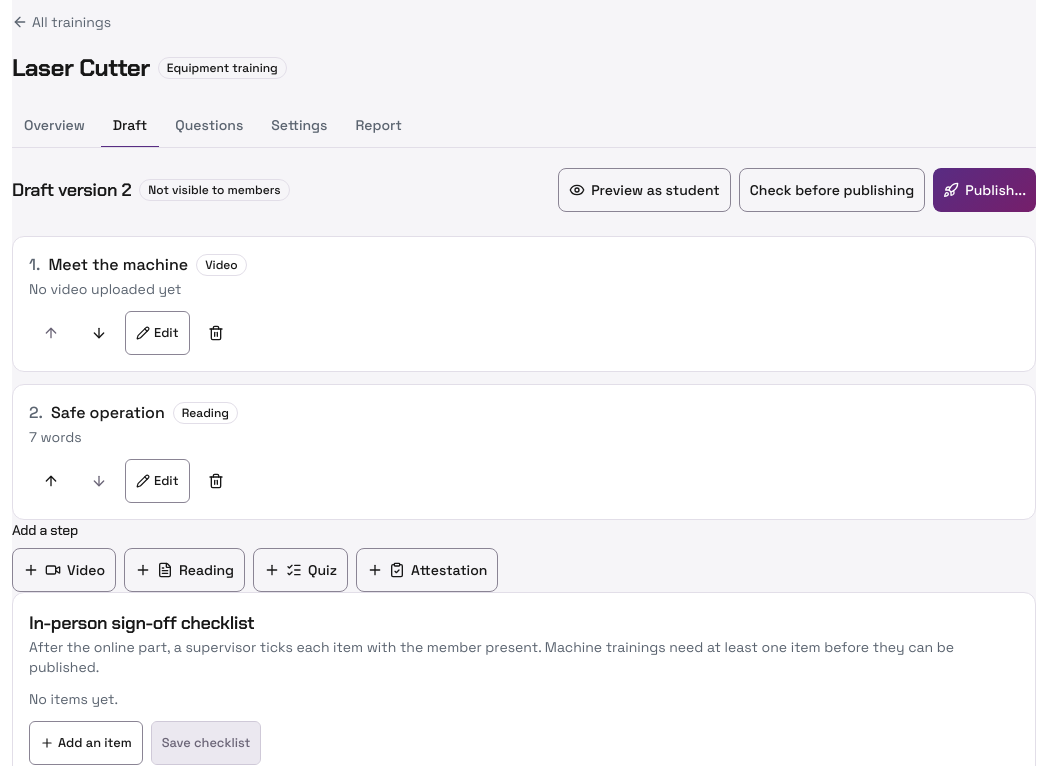
Test case: DraftEditor publish check › says when the draft is ready
Expected: the heading "Laser Cutter" is shown, [12,52,150,84]
Expected: the heading "Draft version 2" is shown, [12,176,131,204]
Click the button "Check before publishing" at (832, 190), box [739,168,925,212]
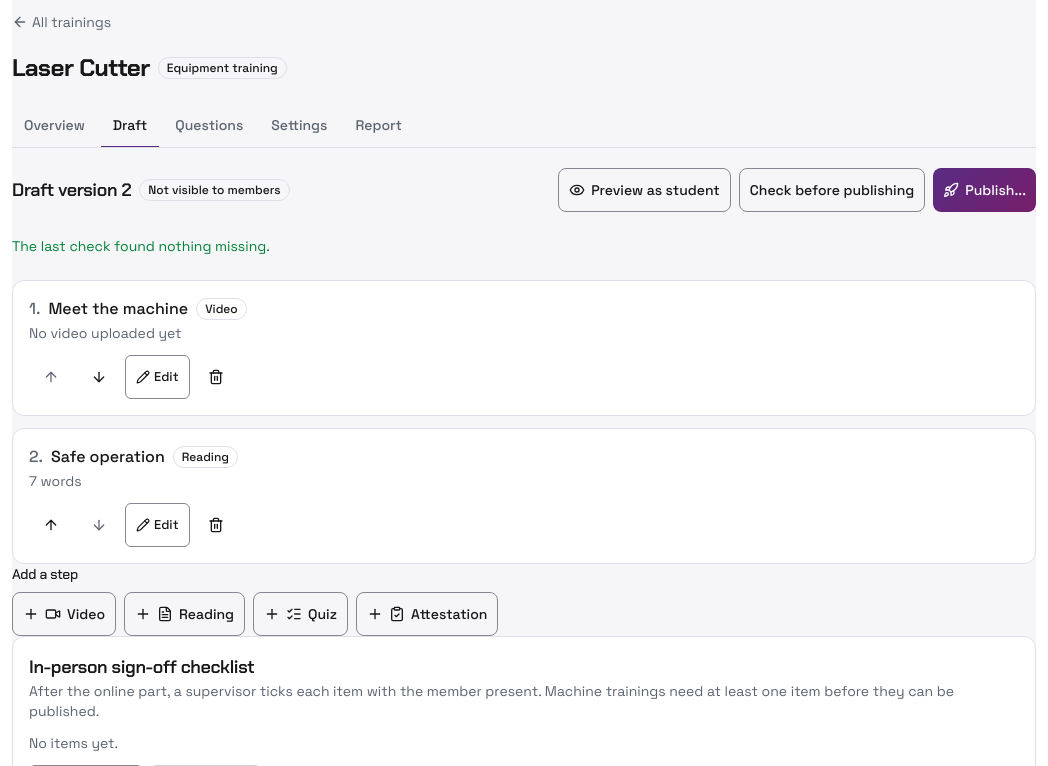
Now the text "The last check found nothing missing." is shown, box [12,237,270,255]
